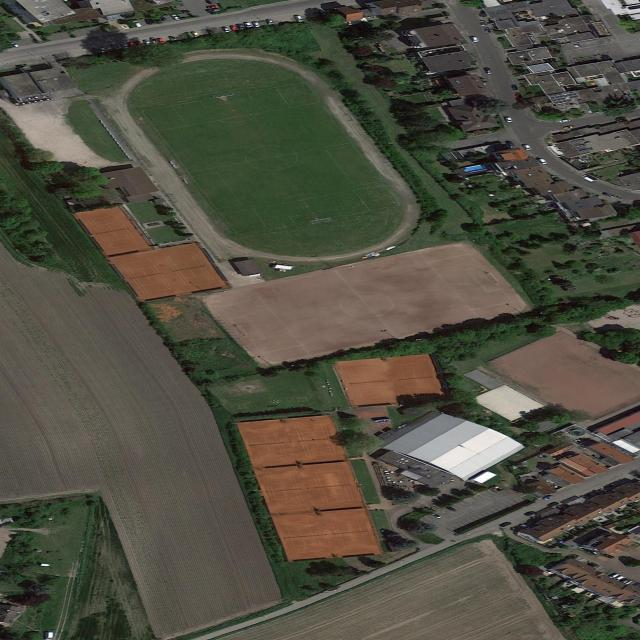small-vehicle: (580, 174, 599, 183), (601, 191, 616, 198), (601, 552, 616, 559), (144, 18, 156, 26), (523, 510, 536, 517), (503, 140, 516, 147), (545, 502, 560, 508), (498, 521, 512, 527), (130, 21, 142, 28), (45, 632, 55, 640), (557, 118, 573, 123), (608, 573, 621, 579), (119, 42, 130, 49), (295, 15, 305, 22), (538, 158, 548, 165), (171, 14, 181, 21), (158, 15, 168, 22), (541, 495, 555, 500), (482, 26, 492, 33), (134, 40, 144, 47), (522, 144, 533, 150), (206, 29, 217, 35), (447, 506, 458, 512), (430, 513, 443, 518), (484, 67, 493, 74), (222, 26, 231, 33), (150, 37, 159, 44), (265, 19, 275, 25), (10, 42, 20, 48), (156, 37, 166, 43), (479, 20, 487, 27), (191, 31, 200, 37), (252, 21, 261, 27), (616, 575, 625, 581), (143, 39, 152, 45), (98, 46, 107, 52), (168, 35, 177, 41), (209, 8, 222, 12), (562, 125, 575, 129), (614, 116, 627, 120), (515, 92, 522, 99), (207, 5, 219, 9), (573, 42, 581, 48), (505, 116, 512, 122), (472, 36, 479, 42), (238, 24, 245, 30), (512, 84, 519, 90), (245, 22, 252, 27), (231, 25, 237, 30)
